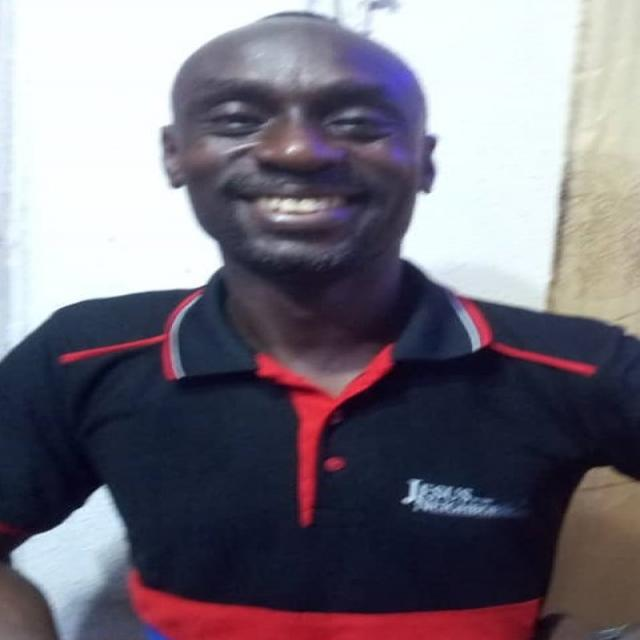happy: (138, 9, 450, 286)
